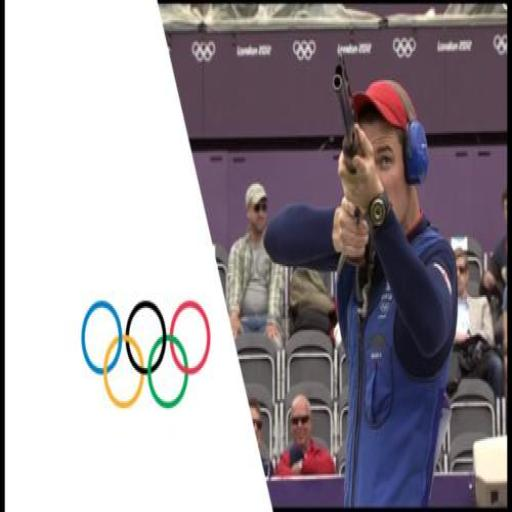shooting: (262, 75, 461, 508)
